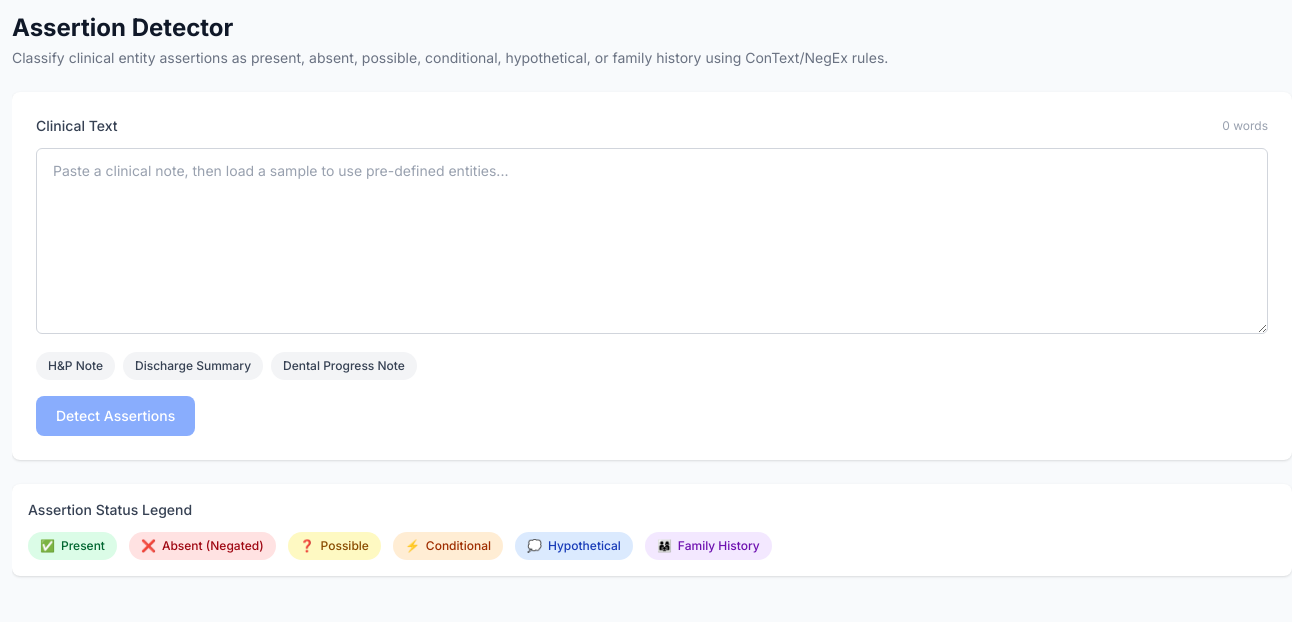
Test: AssertionDetector › sample loading › enables analyze button after loading sample
Click the button "Dental Progress Note".
click(344, 366)  # box [271, 352, 417, 380]
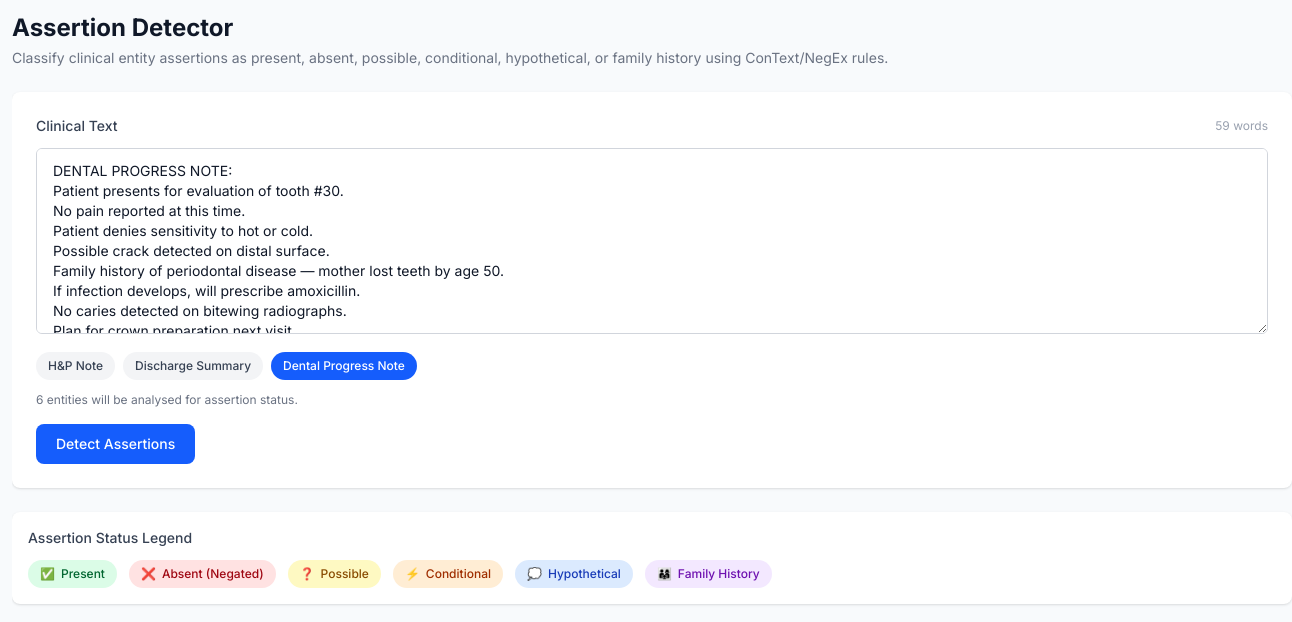
Expected: the button "Detect Assertions" is enabled, [36, 424, 195, 464]
